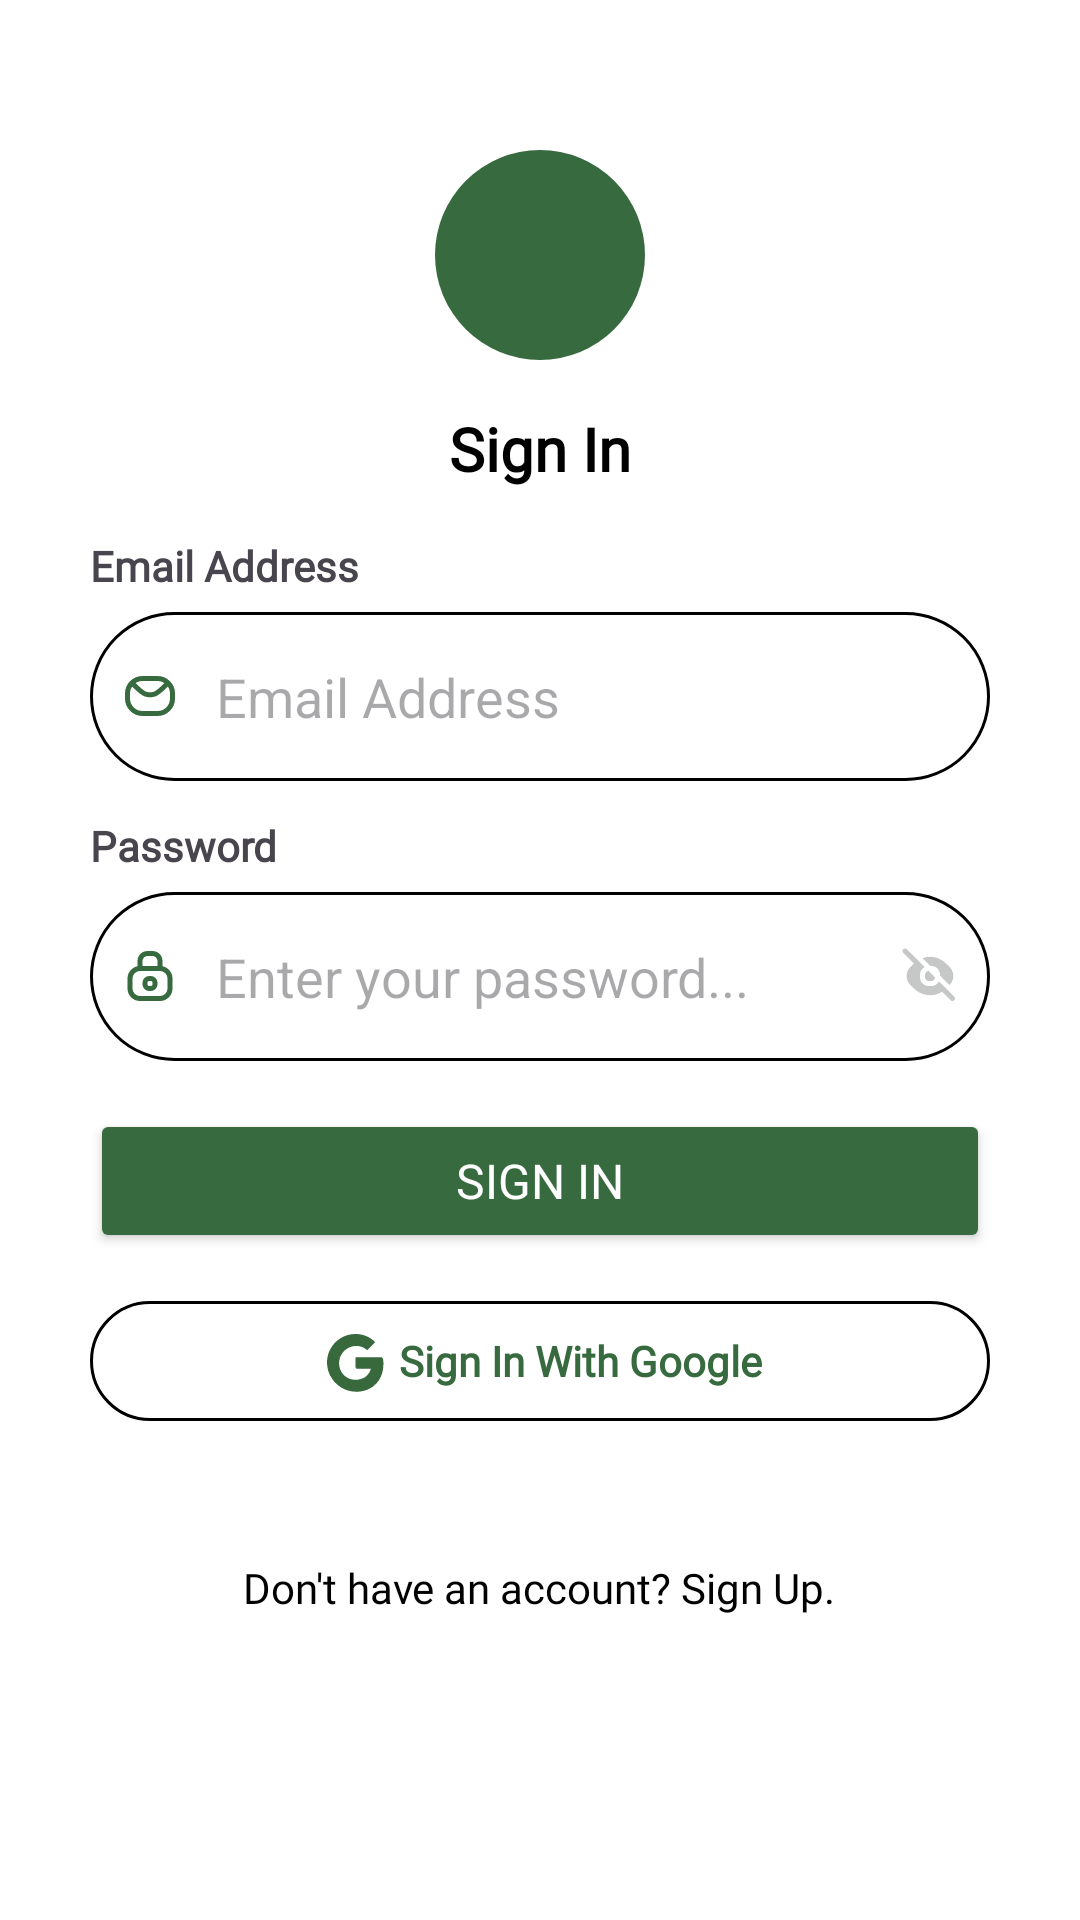

Icon click points for this 1080*1920 phone screenshot, format point (x, y):
eye: point (928, 974)
gembok: point (150, 976)
